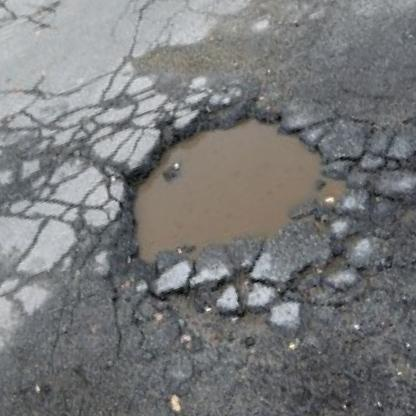pothole: (91, 68, 372, 298)
